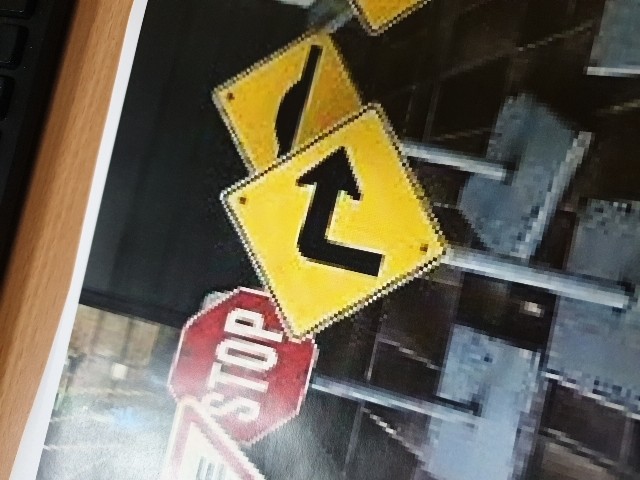right: (230, 135, 490, 320)
stop: (168, 285, 349, 440)
